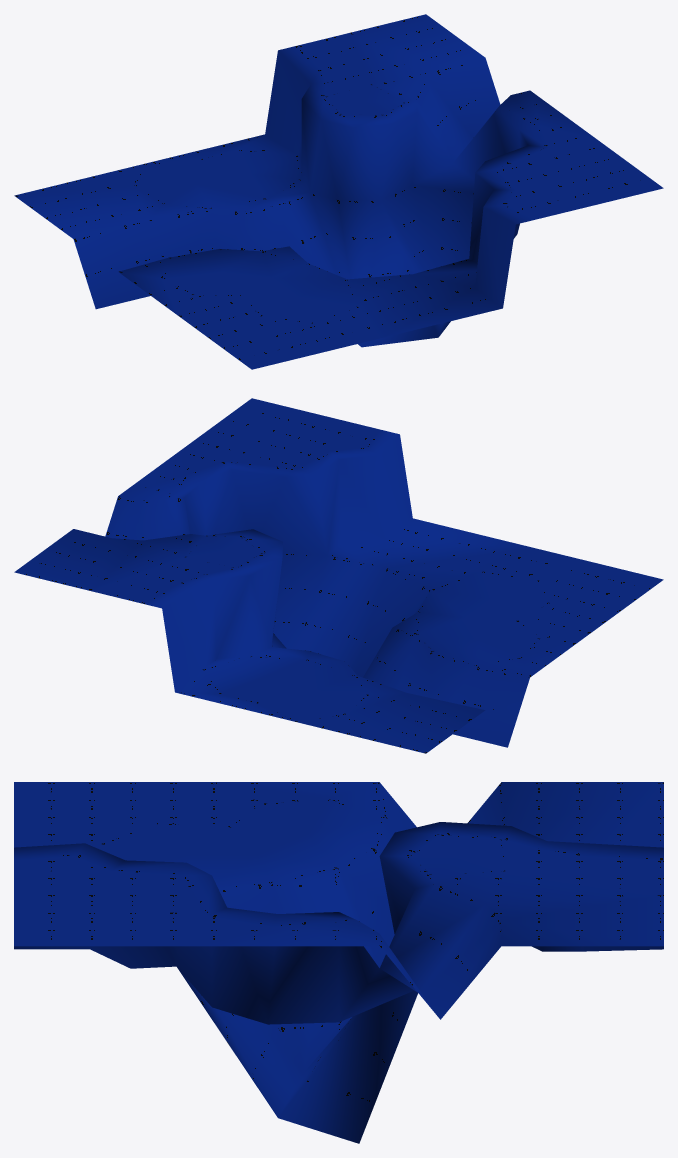
File: GRD_S_C6_R3_1.fbx
3 views of the same model, one above another, from view 1: azimuth 30°, elevation 25°; view 2: azimuth 150°, elevation 25°; view 3: azimuth 270°, elevation 25° (orthographic). The views are drawn at different scales.
Parts seen in each view (by area): view 1: material_00012000, material_C0052000, material_00042000, material_C0022000; view 2: material_00012000, material_00042000, material_C0052000, material_C0022000; view 3: material_00012000, material_C0052000, material_00042000, material_C0022000.
Part boxes in pixels (x1,y1,x2,y2): material_00012000: (14,14,663,369); material_C0052000: (73,58,516,347); material_00042000: (265,46,547,307); material_C0022000: (134,84,404,323); material_00012000: (14,398,663,753); material_00042000: (143,430,412,691); material_C0052000: (105,496,529,747); material_C0022000: (184,535,550,722); material_00012000: (14,782,663,946); material_C0052000: (177,782,505,1143); material_00042000: (14,822,663,1024); material_C0022000: (100,799,506,889).
Bounding box in the file's own units: 12800 × 5600 × 12800.
